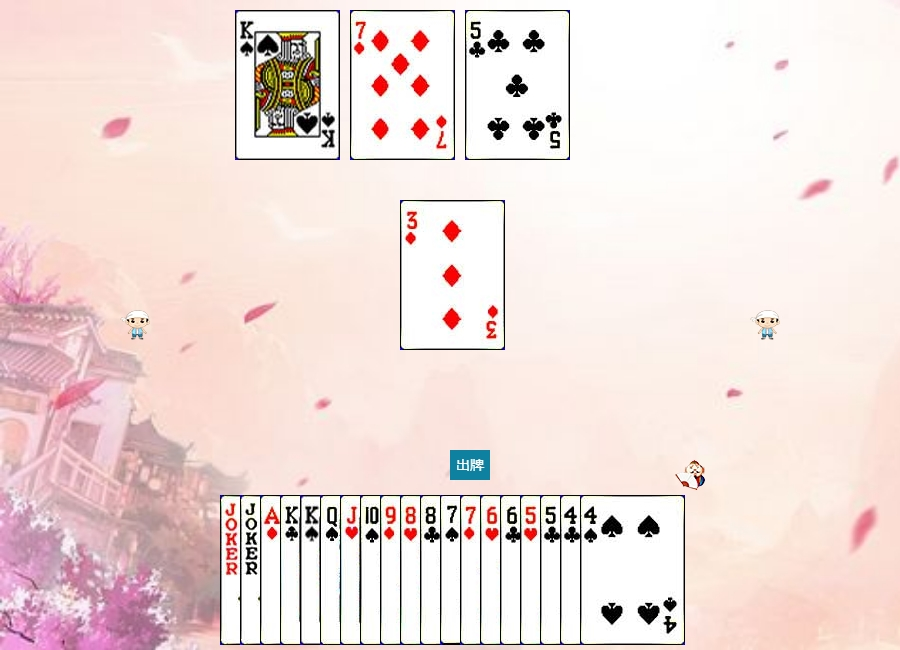10~4: (360, 495, 465, 645)
11~3: (340, 495, 445, 645)
12~4: (320, 495, 425, 645)
13~2: (280, 495, 385, 645)
13~4: (235, 10, 340, 160), (300, 495, 405, 645)
14~1: (260, 495, 365, 645)
17~3: (240, 495, 345, 645)
18~4: (220, 495, 325, 645)
3~1: (400, 200, 505, 350)
4~2: (560, 495, 665, 645)
4~4: (580, 495, 685, 645)
5~2: (465, 10, 570, 160), (540, 495, 645, 645)
5~3: (520, 495, 625, 645)
6~2: (500, 495, 605, 645)
6~3: (480, 495, 585, 645)
7~1: (350, 10, 455, 160), (460, 495, 565, 645)
7~4: (440, 495, 545, 645)
8~2: (420, 495, 525, 645)
8~3: (400, 495, 505, 645)
9~1: (380, 495, 485, 645)
